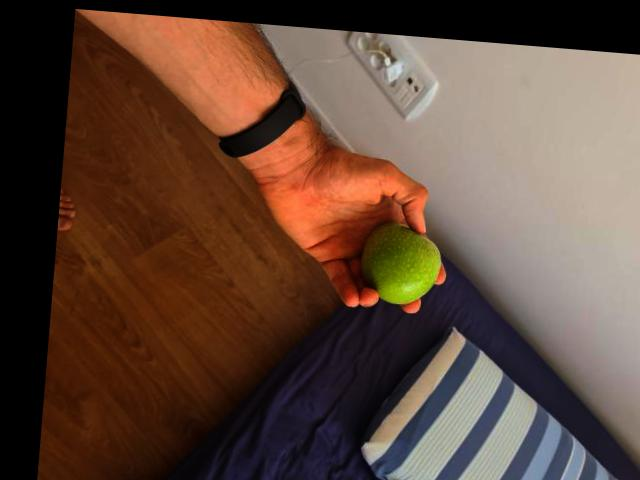apple: (350, 223, 446, 307)
